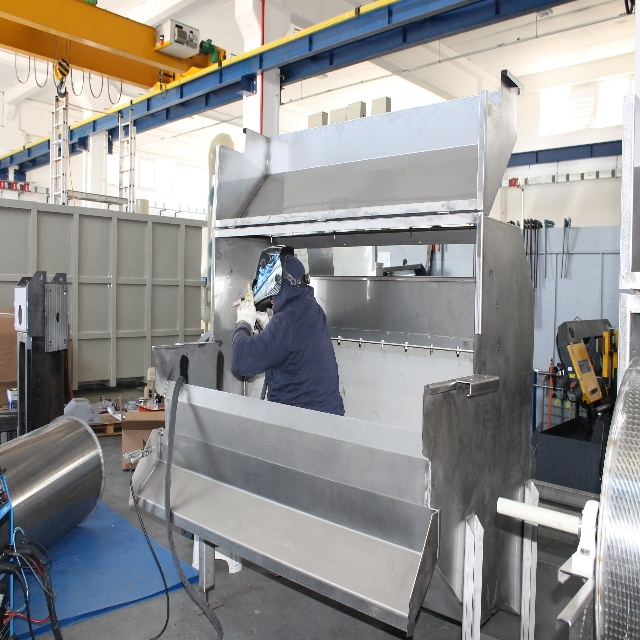Guantes: (235, 281, 257, 330), (251, 310, 268, 332)
